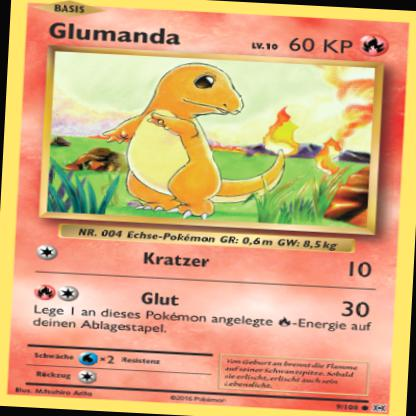Charmander: (105, 59, 296, 222)
